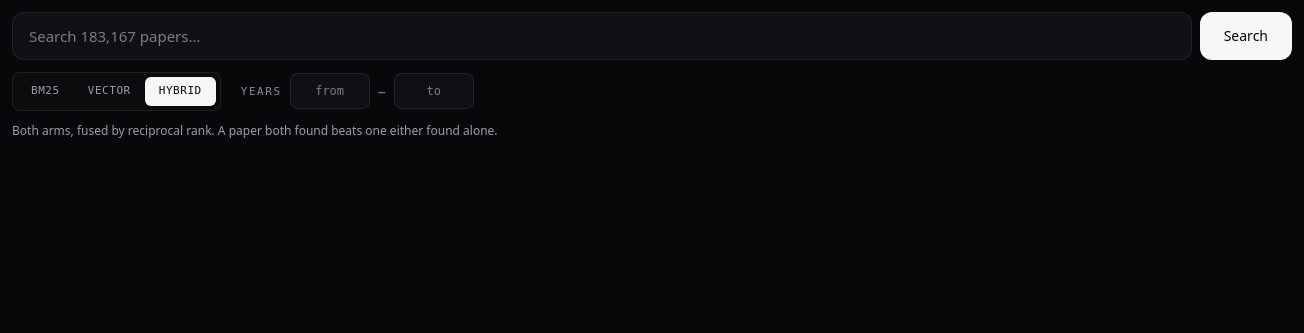
slow search feedback › marks the standing results busy while the next mode is in flight
Type "anything" into the field named "Query" at (602, 36), box [12,12,1192,60]
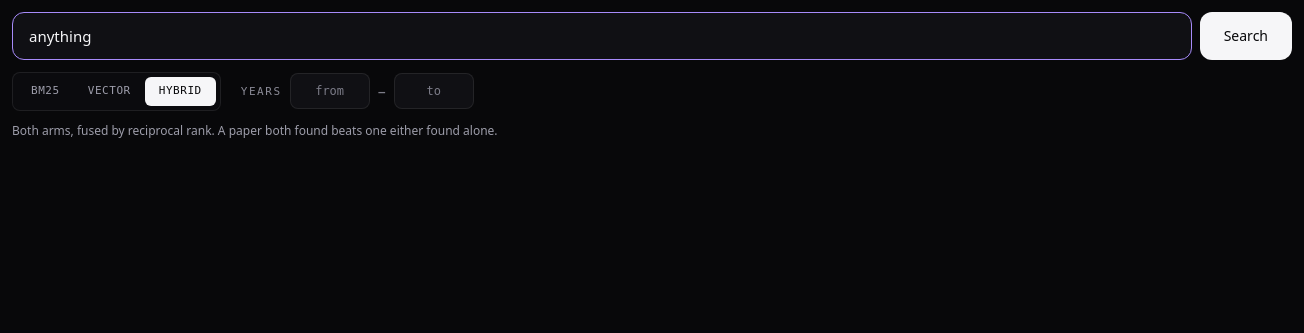
Click the button "Search" at (1246, 36), box [1200,12,1292,60]
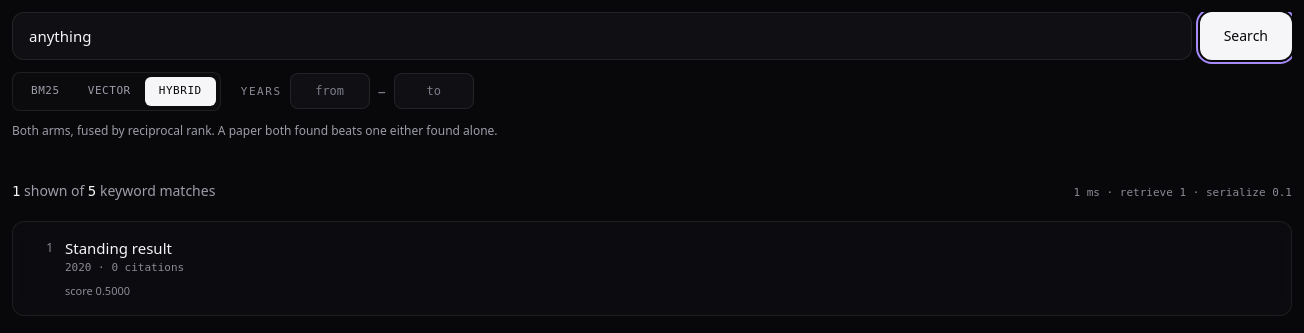
Click the radio button labelled "vector" at (109, 91), box [74,77,145,106]
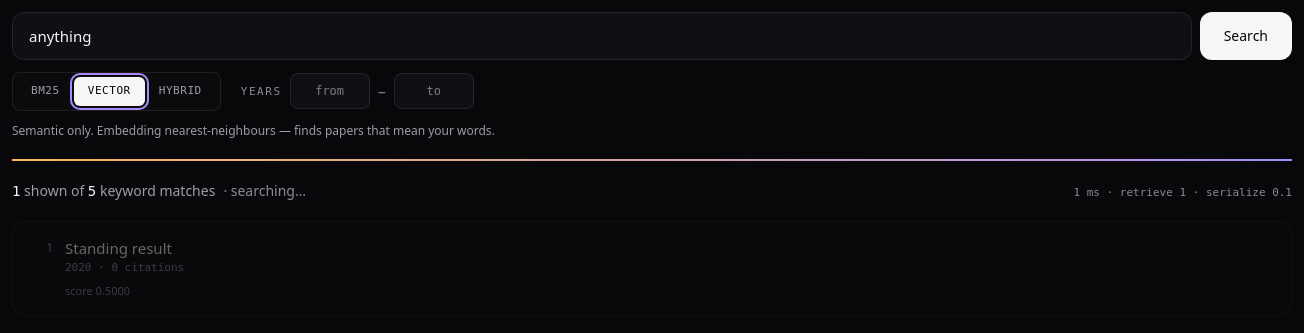
Expected: the heading "Standing result" is shown, [65,238,172,258]
Expected: the text "· searching…" is shown, [223,180,306,200]
